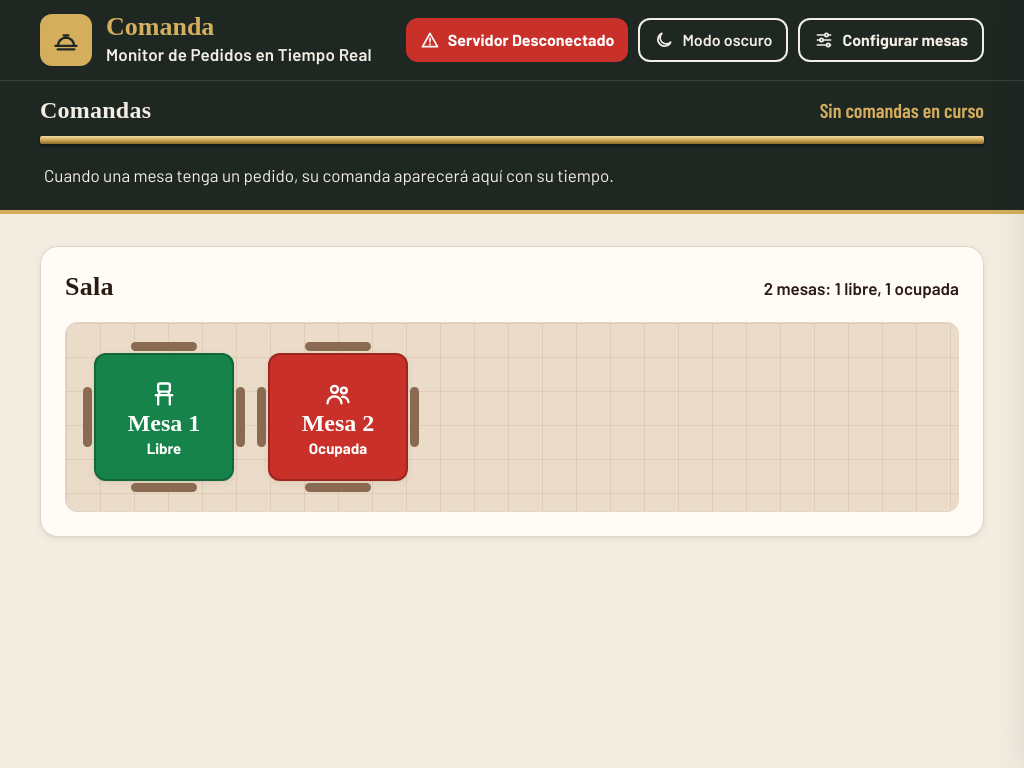
Test: App: conexión › arranca desconectada y deshabilita las acciones de la mesa
Check: the text "Servidor Desconectado" is shown, box [406,18,628,62]
Click the button titled "Mesa 2 —". click: (338, 417)
box: [268,353,408,481]
(page scrolled)
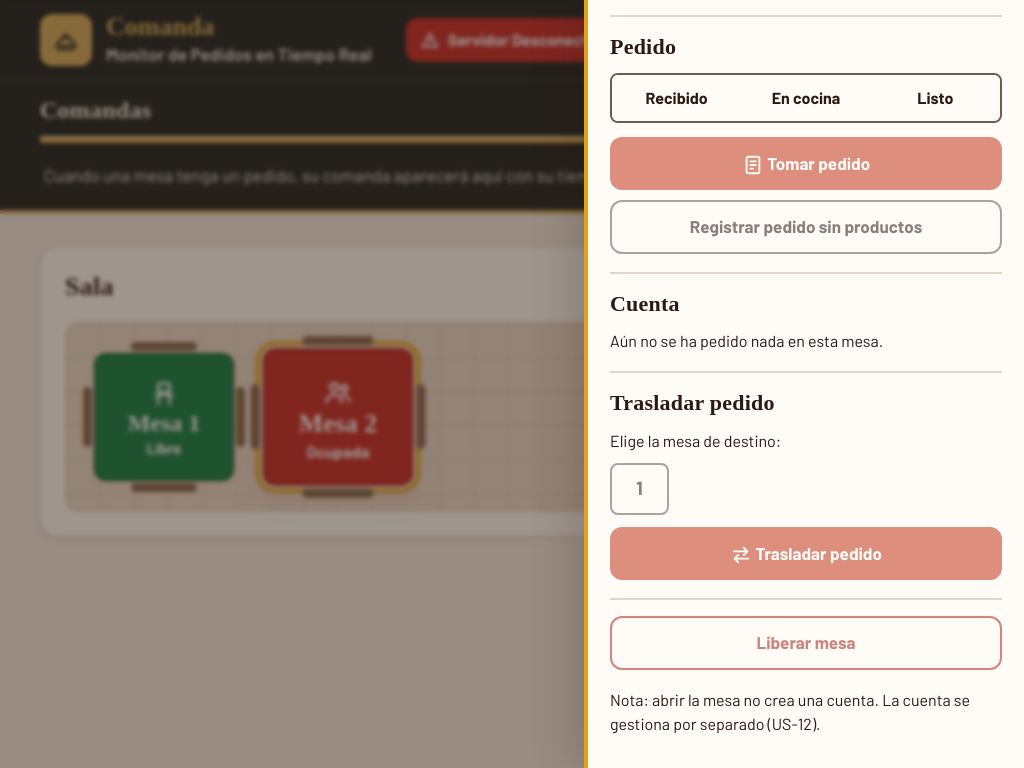
Check: the button "Registrar pedido sin productos" is disabled, box [610,200,1002,254]
Check: the button "Liberar mesa" is disabled, box [610,616,1002,670]
